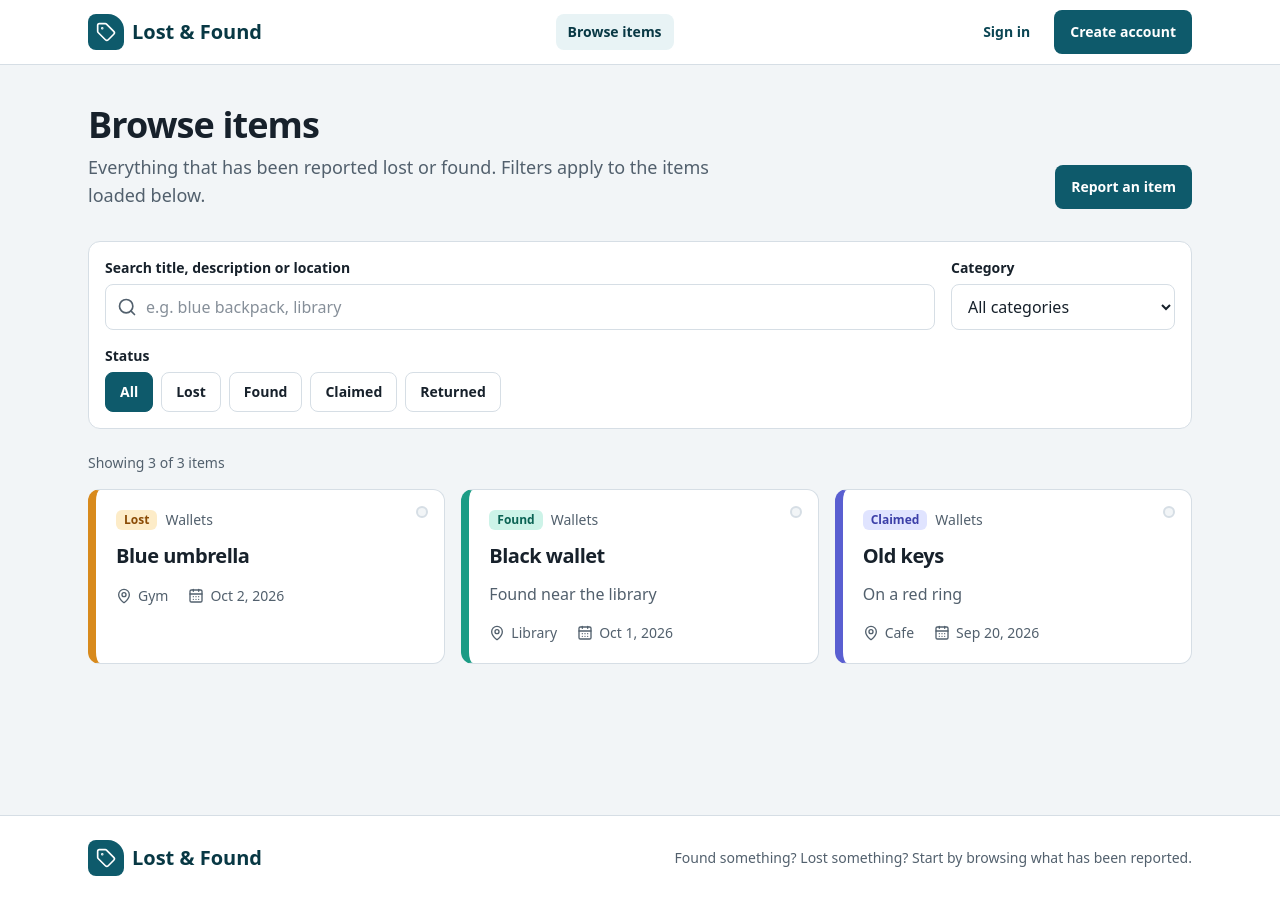
Test: app smoke test › filters the item list by status and search
Check: the text "Showing 3 of 3 items" is shown, box [88,453,225,472]
Click the button "Lost".
click(191, 392)  # box [161,372,221,412]
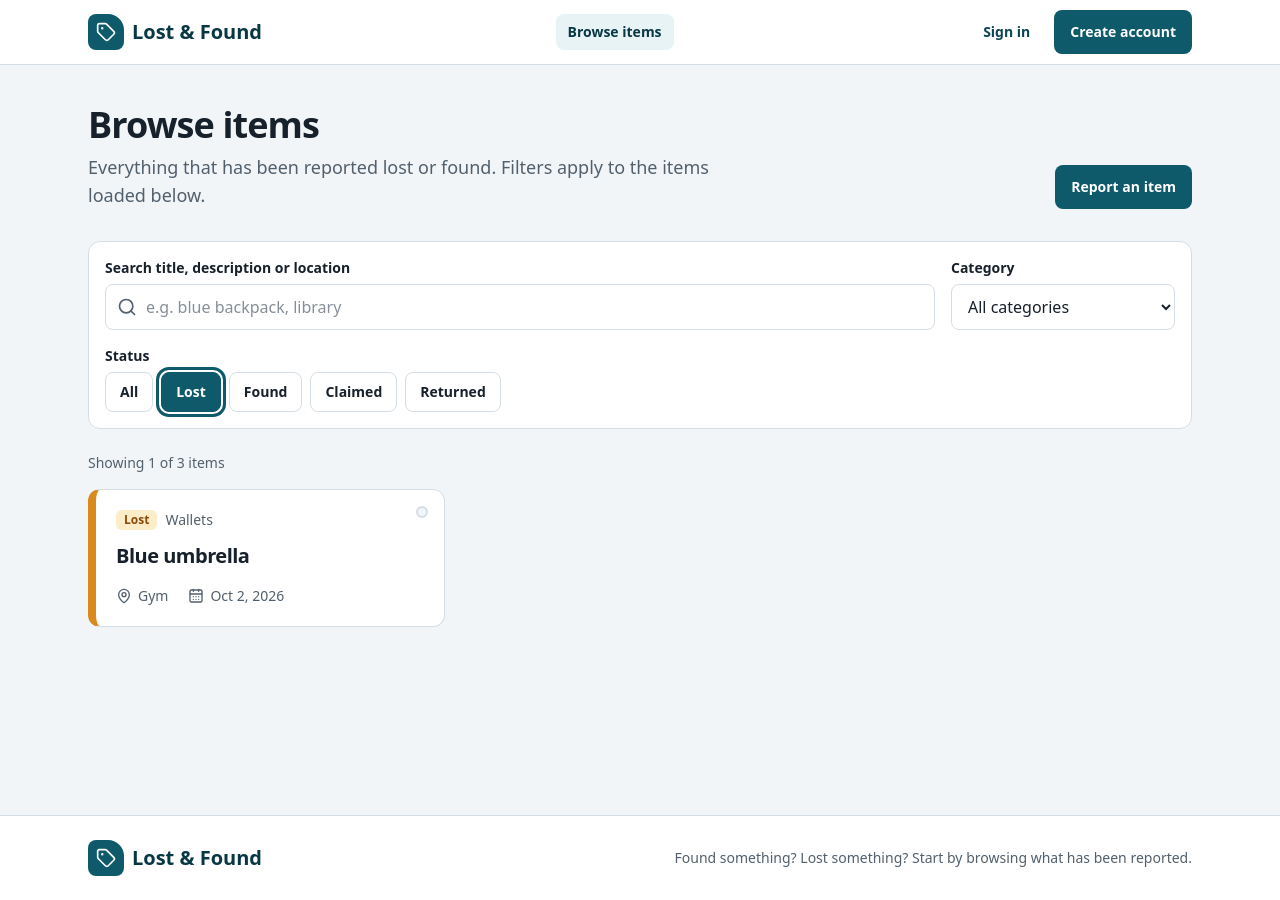
Check: the link "Blue umbrella" is shown, box [116,542,249,569]
Check: the text "Showing 1 of 3 items" is shown, box [88,453,225,472]
Click the button "All".
click(129, 392)  # box [105,372,153,412]
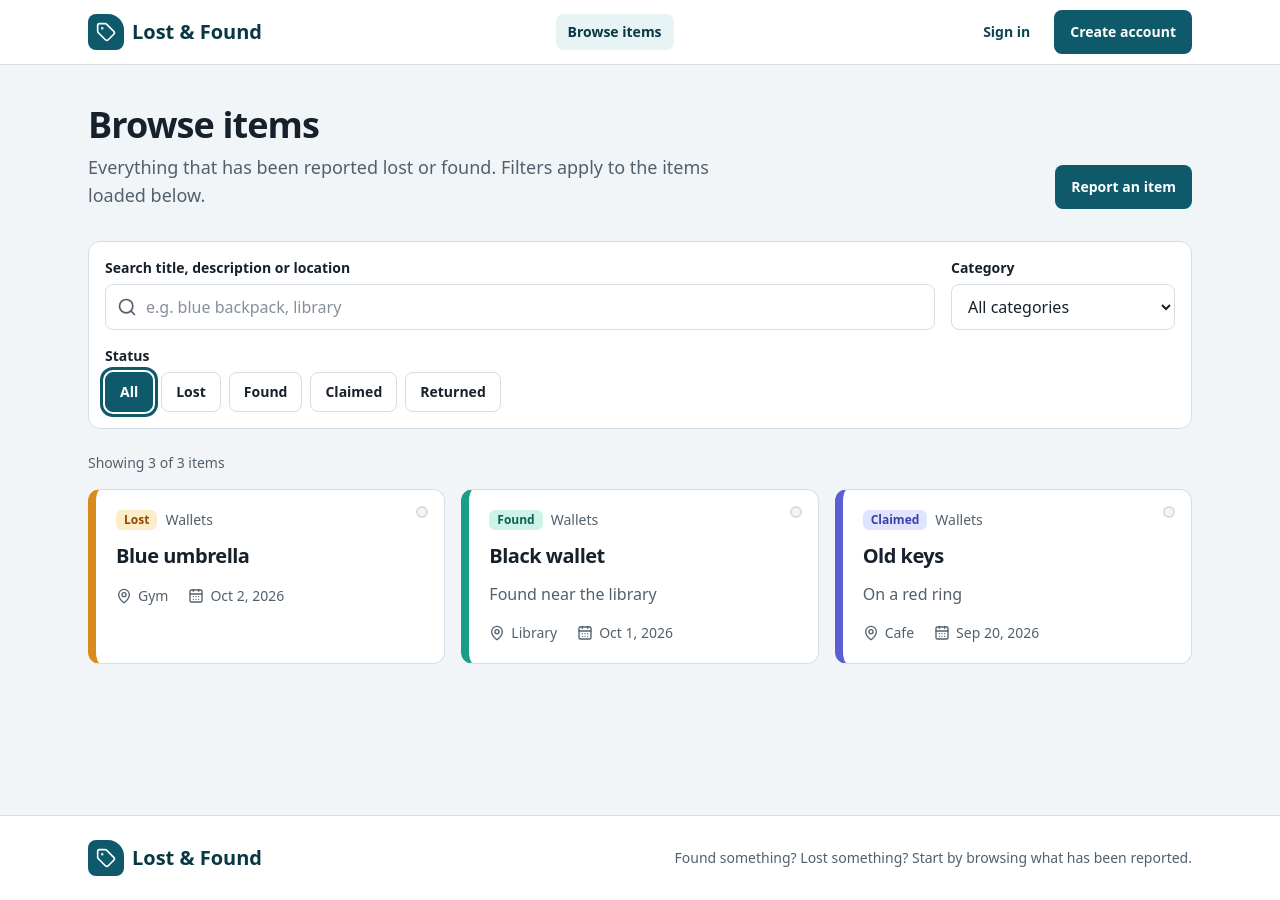
Type "library" into the search field labelled "Search title, description or location".
click(520, 307); type("library")  # box [105,284,935,330]
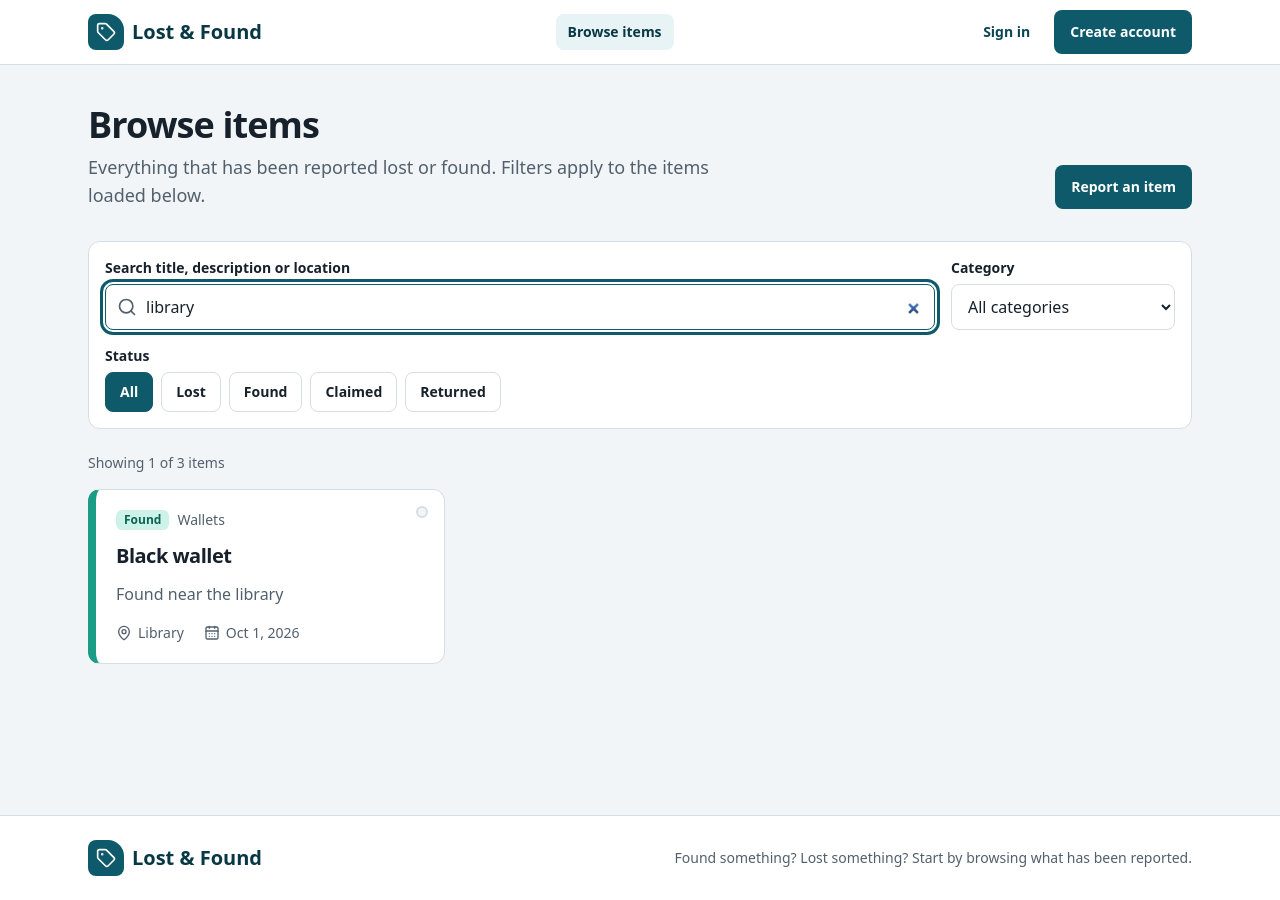
Check: the text "Showing 1 of 3 items" is shown, box [88,453,225,472]
